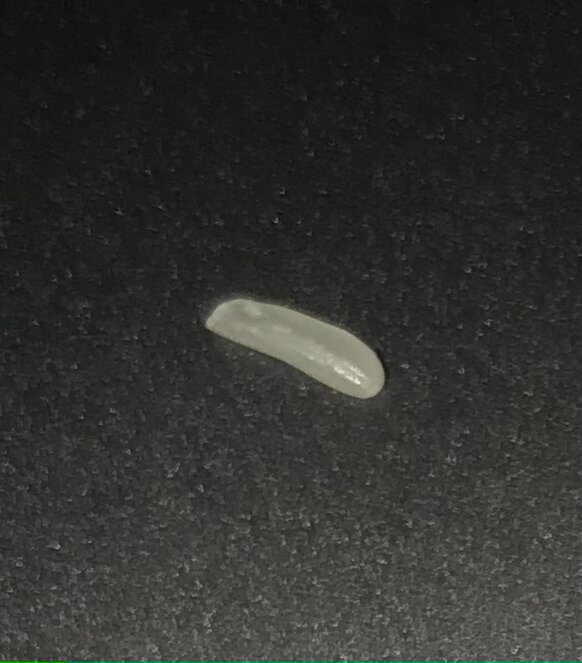Gao Long Lai: (203, 290, 386, 405)
